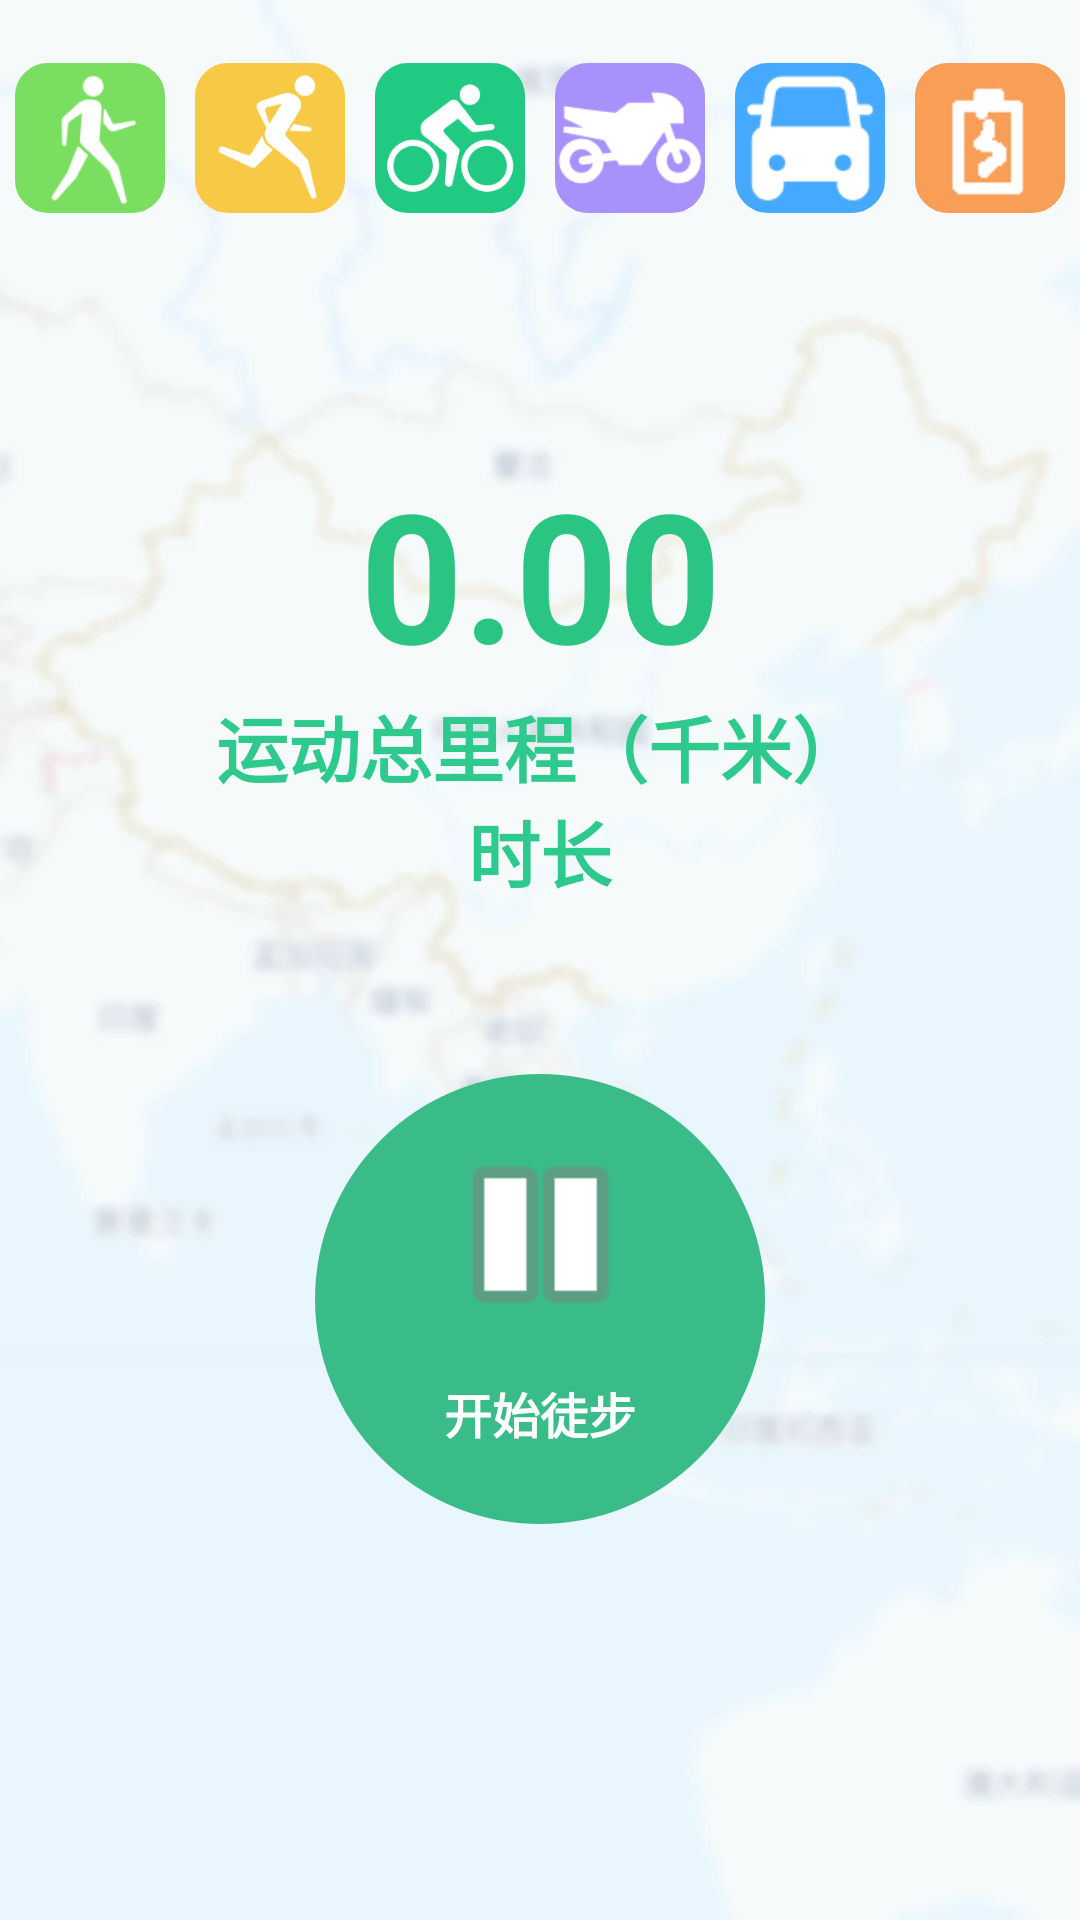

Named icons in this screenshot (1080w x 1920h) and their bounding boxes, (x1, y1, x2, y2):
bike: (375, 63, 525, 213)
car: (735, 63, 885, 213)
hike: (15, 63, 165, 213)
motorbike: (555, 63, 705, 213)
pause: (473, 1167, 608, 1302)
run: (195, 63, 345, 213)
